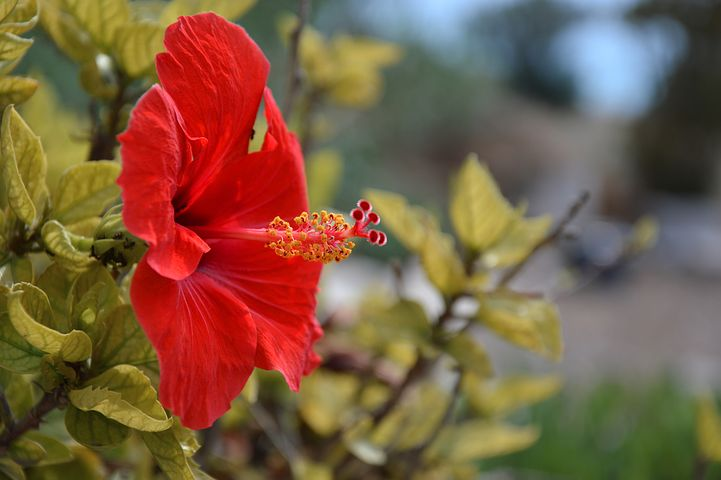Hibiscus: (105, 19, 380, 430)
